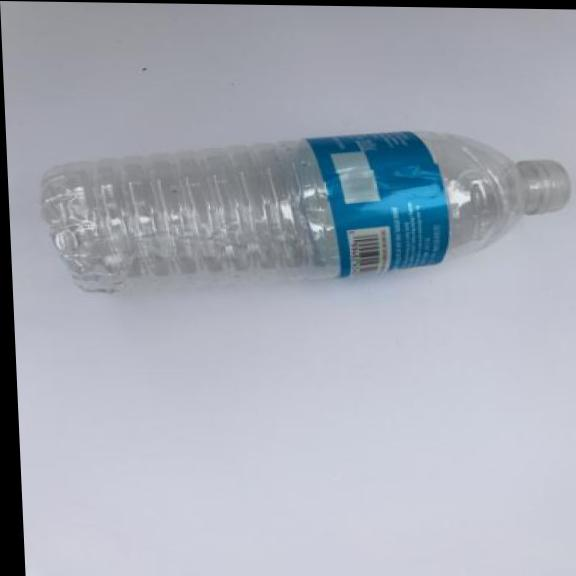Plastik: (33, 117, 576, 303)
